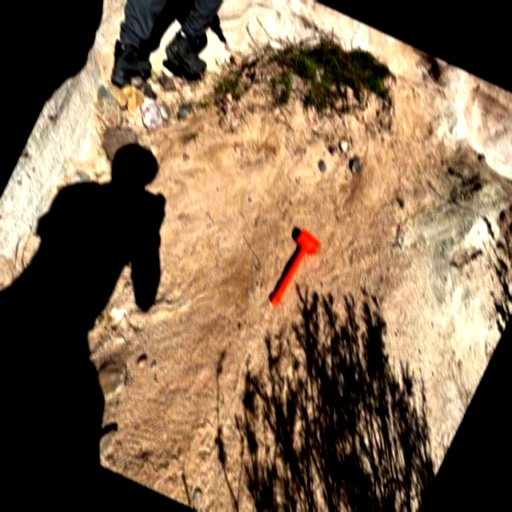mallet: (264, 225, 325, 318)
